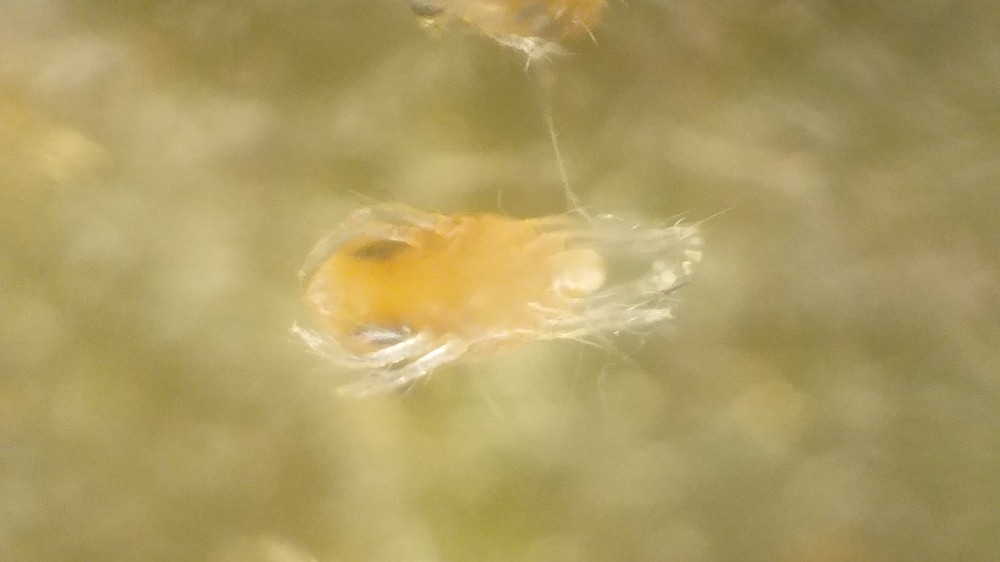Aracnido Rojo: (295, 174, 723, 406)
